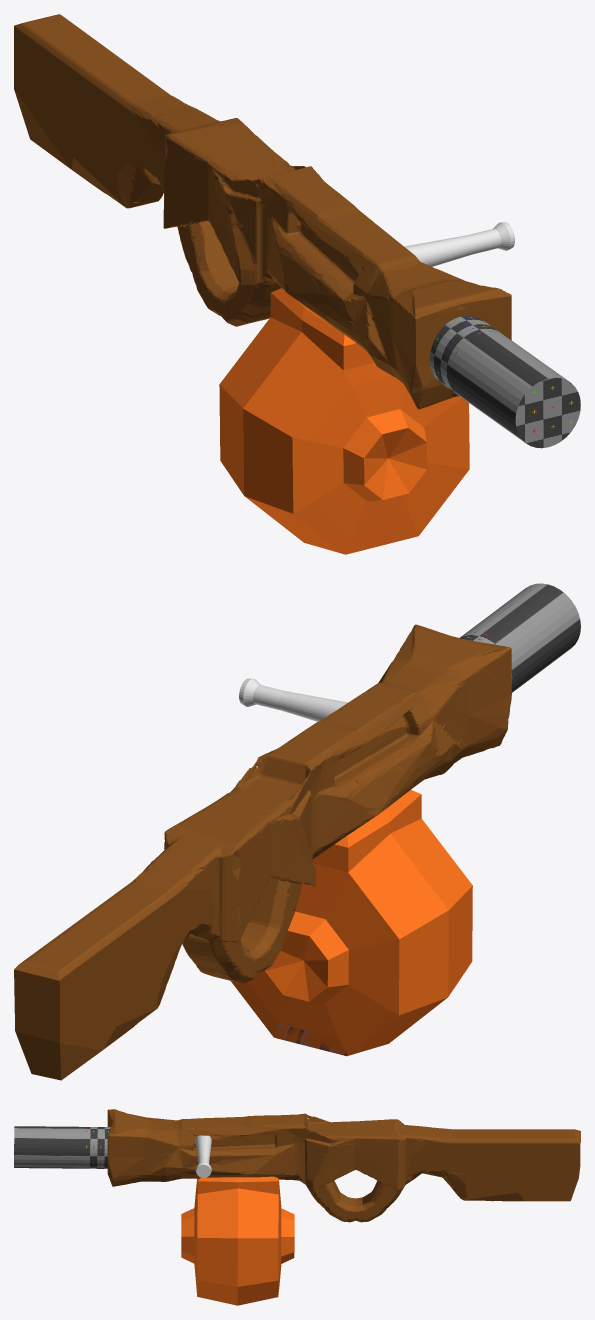
The model's file is Spud Gun.fbx.
3 views of the same model, one above another, from view 1: azimuth 30°, elevation 25°; view 2: azimuth 150°, elevation 25°; view 3: azimuth 270°, elevation 25° (orthographic). The views are drawn at different scales.
Visible parts, largest first — view 1: Cube, Torus.001, Cylinder, Cylinder.001; view 2: Cube, Torus.001, Cylinder, Cylinder.001; view 3: Cube, Torus.001, Cylinder, Cylinder.001.
Boxes of the visible parts, bbox=[...] form: Cube: bbox=[14, 14, 511, 409]; Torus.001: bbox=[219, 288, 469, 554]; Cylinder: bbox=[430, 315, 580, 448]; Cylinder.001: bbox=[404, 222, 514, 266]; Cube: bbox=[14, 624, 511, 1080]; Torus.001: bbox=[231, 790, 472, 1056]; Cylinder: bbox=[460, 583, 580, 692]; Cylinder.001: bbox=[239, 678, 347, 721]; Cube: bbox=[107, 1109, 580, 1222]; Torus.001: bbox=[181, 1176, 294, 1305]; Cylinder: bbox=[14, 1126, 110, 1168]; Cylinder.001: bbox=[195, 1135, 211, 1177].
Size of the model in its own units: 302 by 391 by 1143.
